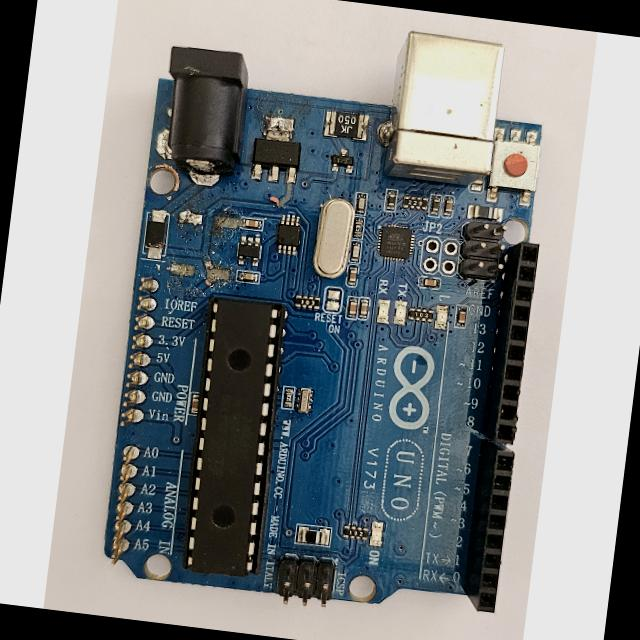missing_analog_pins: (103, 271, 162, 570)
missing_capacitors: (164, 206, 241, 289)
